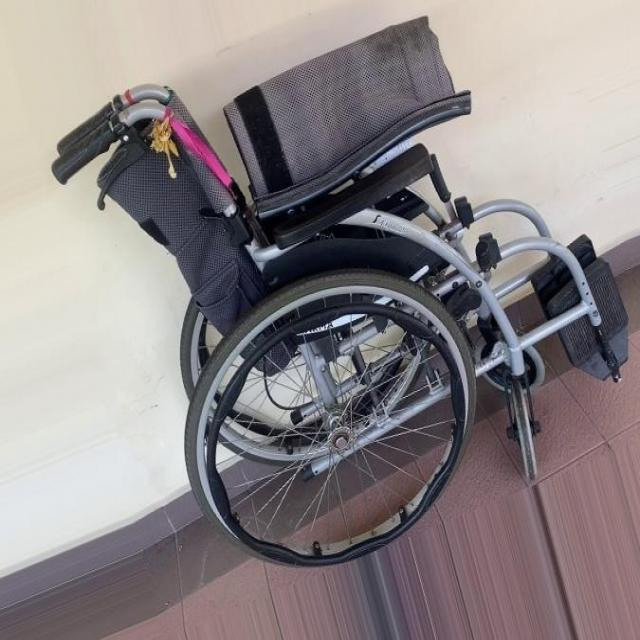wheelchair: (35, 8, 640, 577)
